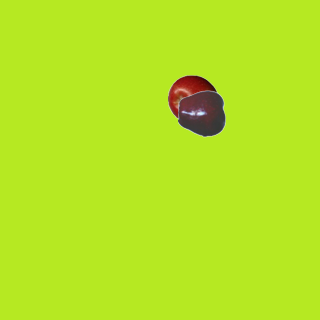Apple Braeburn: (167, 74, 217, 124)
Apple Red Delicious: (177, 88, 227, 138)
